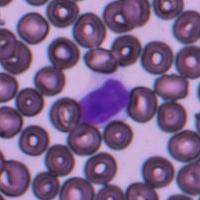L: (76, 72, 130, 127)
